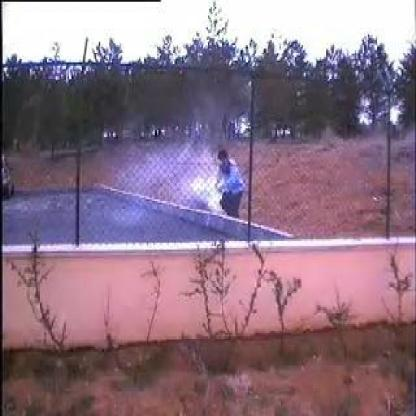-: (132, 152, 222, 218)
